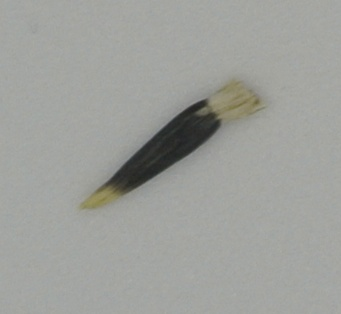เมล็ดดีติดกัน: (80, 71, 265, 214)
